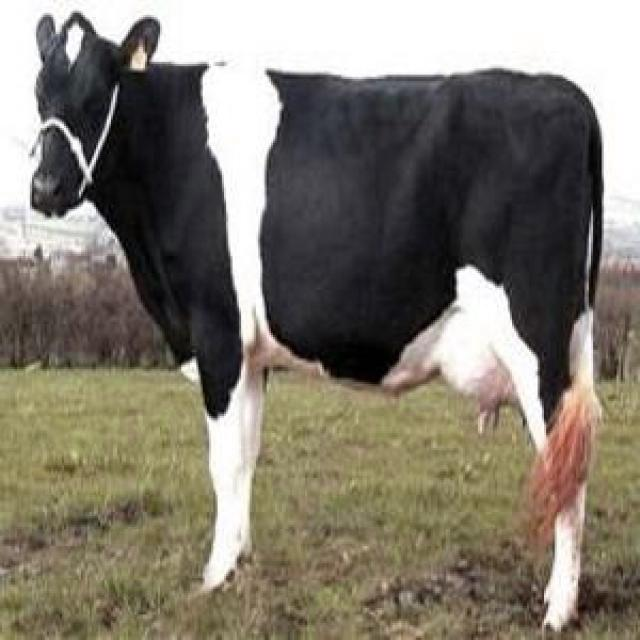cow: (31, 12, 602, 628)
